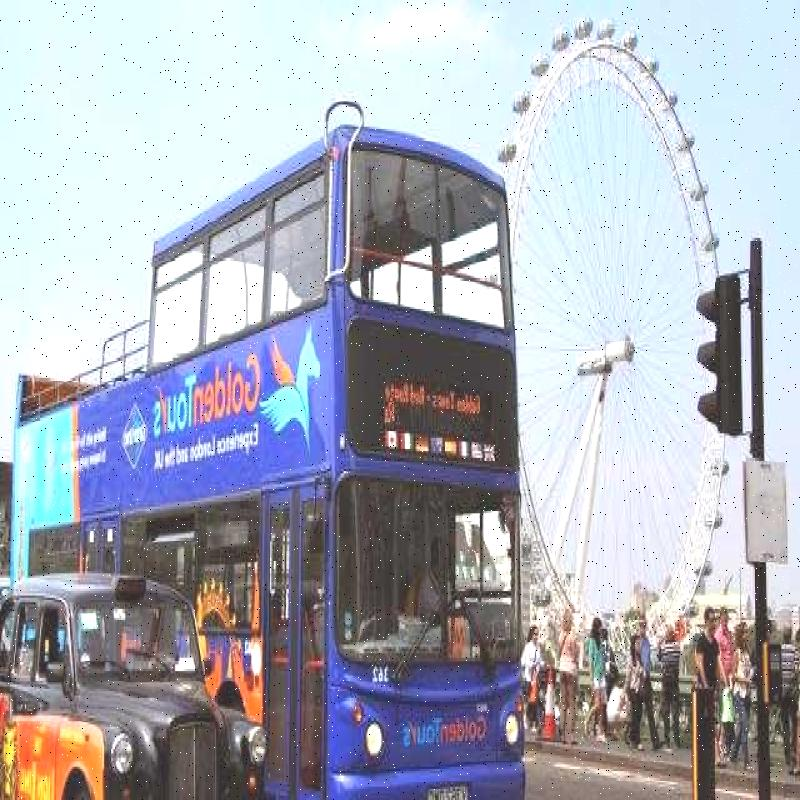bus: (22, 125, 514, 800)
